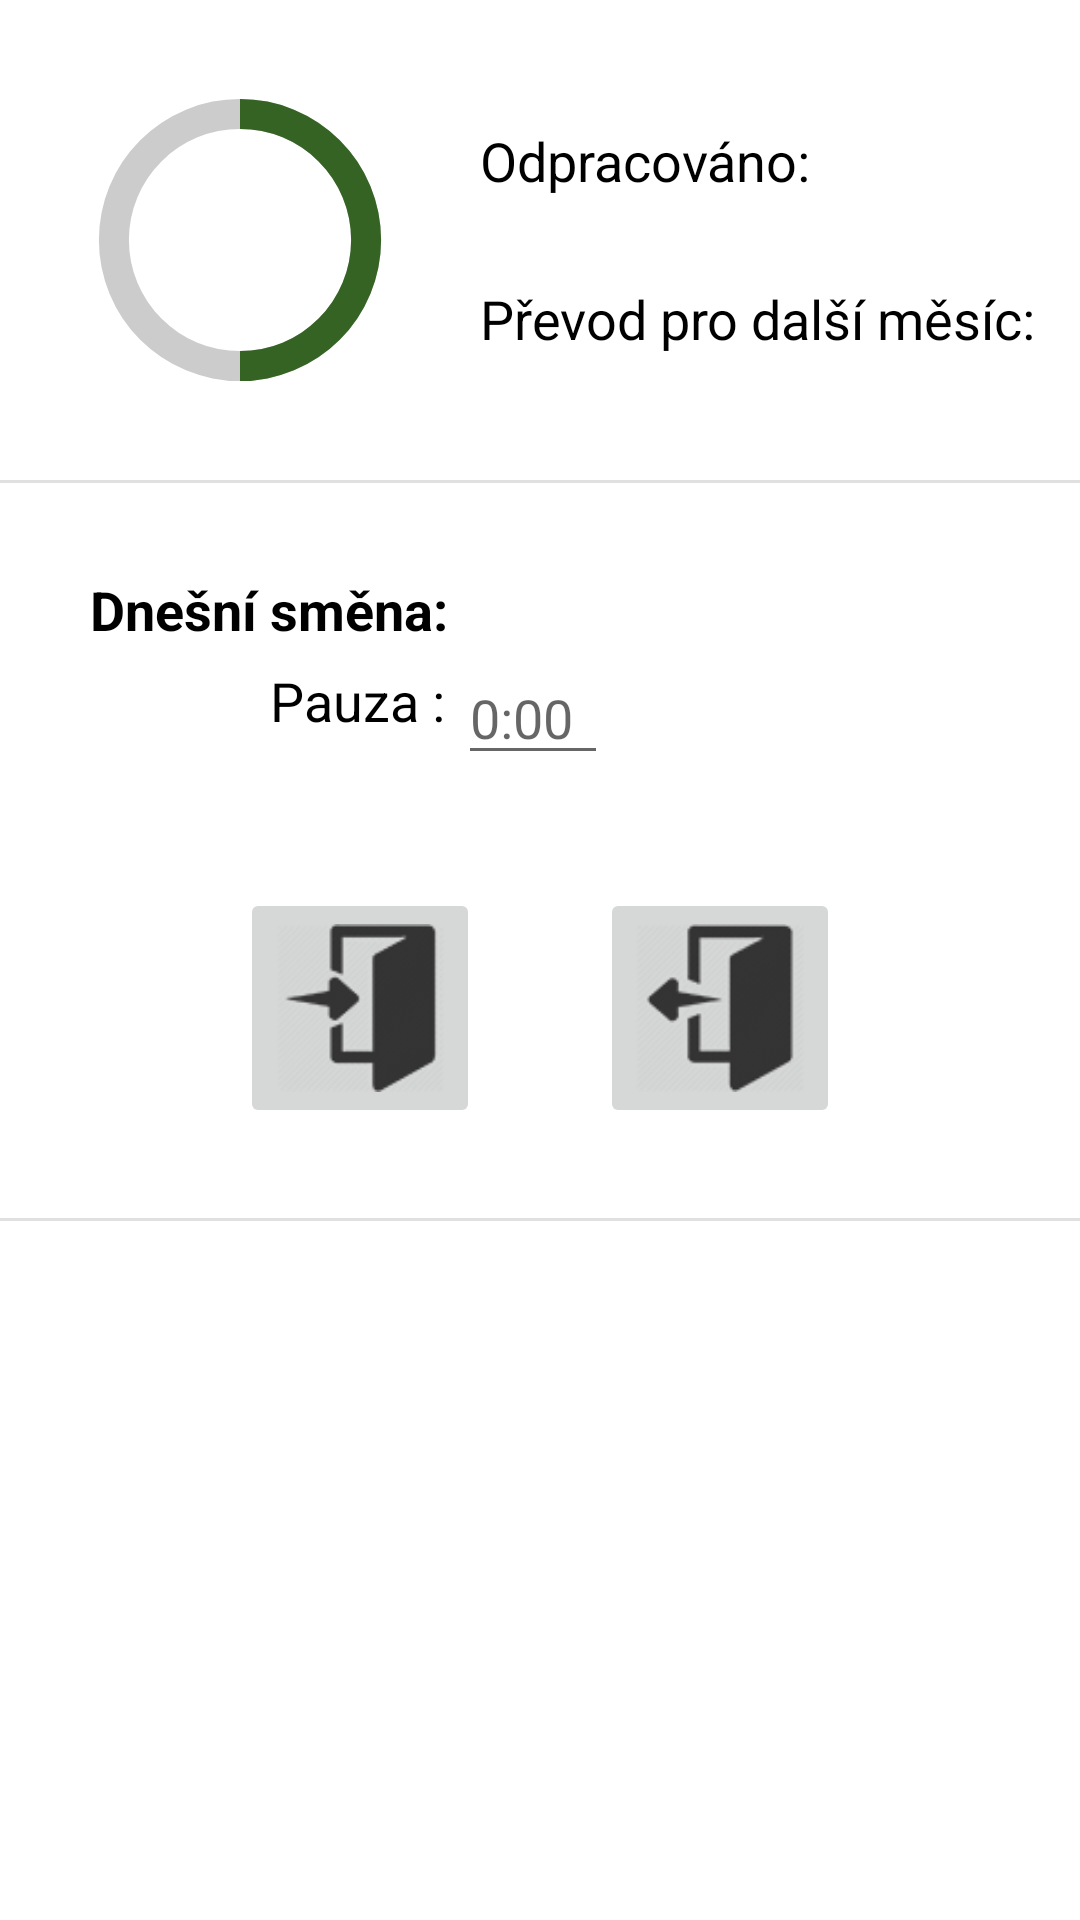

Icon bounding boxes for this 1080×1920 phone screenshot, format [x1, y1, x2, y2]:
check in: [252, 906, 468, 1110]
check out: [612, 906, 828, 1110]
